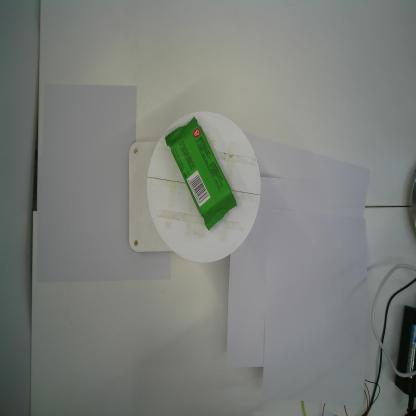Dessert: (164, 115, 237, 233)
